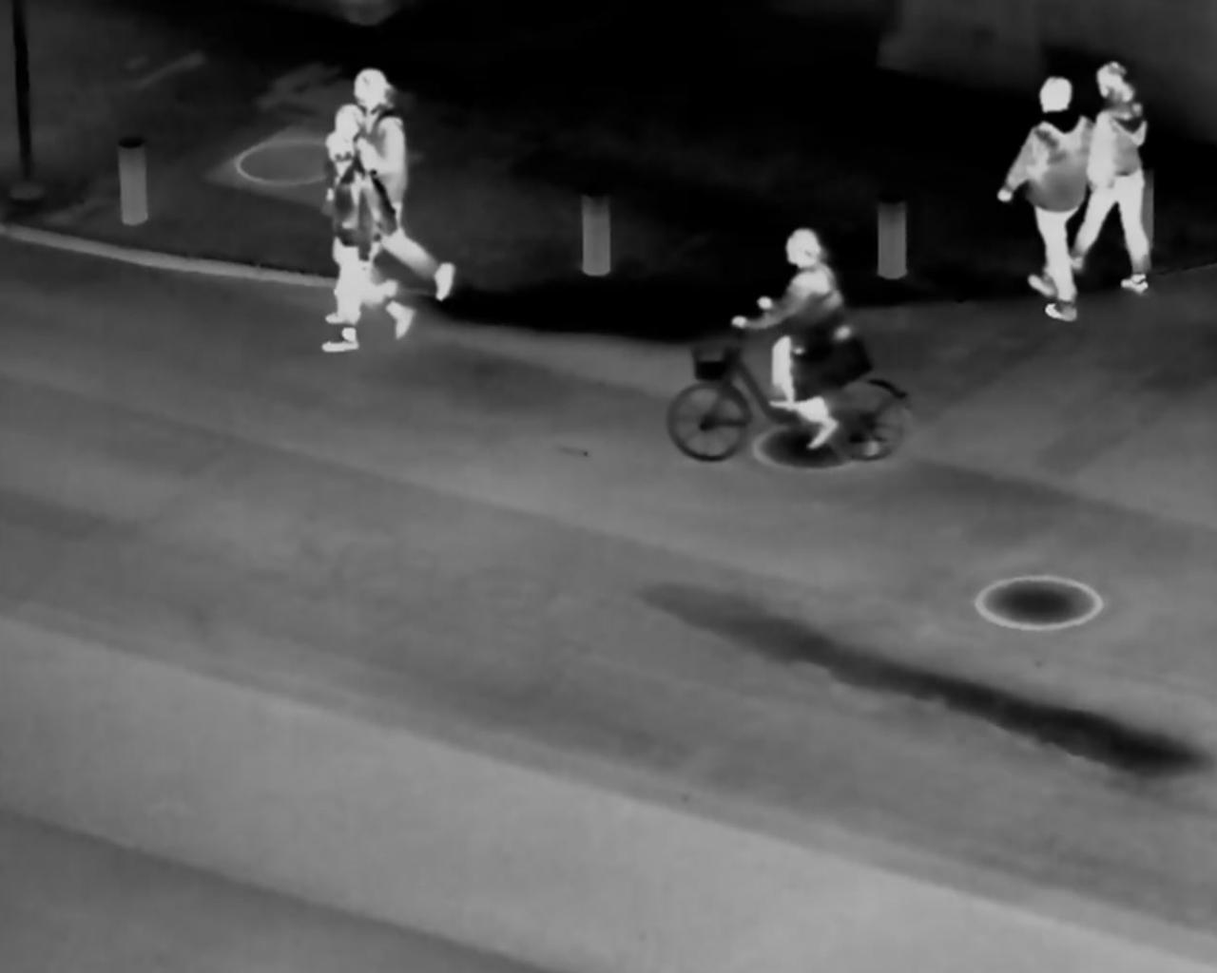person: (333, 63, 454, 309), (729, 231, 847, 454), (1002, 66, 1092, 321), (1079, 53, 1160, 304), (319, 136, 403, 372)
